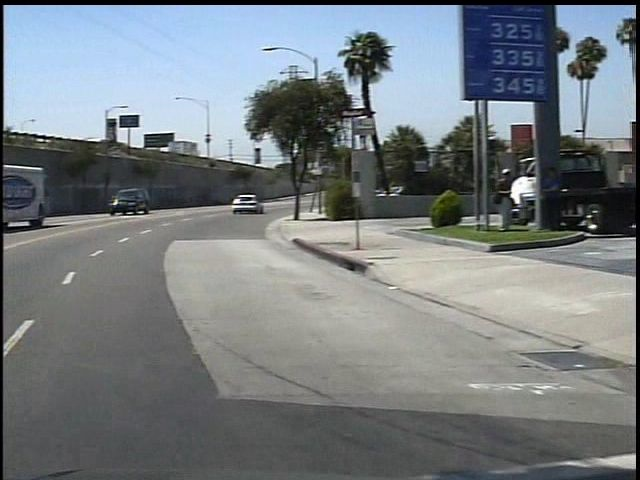person: (482, 165, 509, 233)
